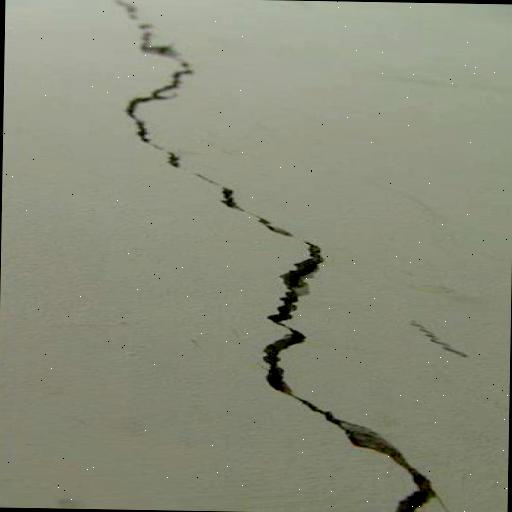spalling: (109, 3, 436, 511)
